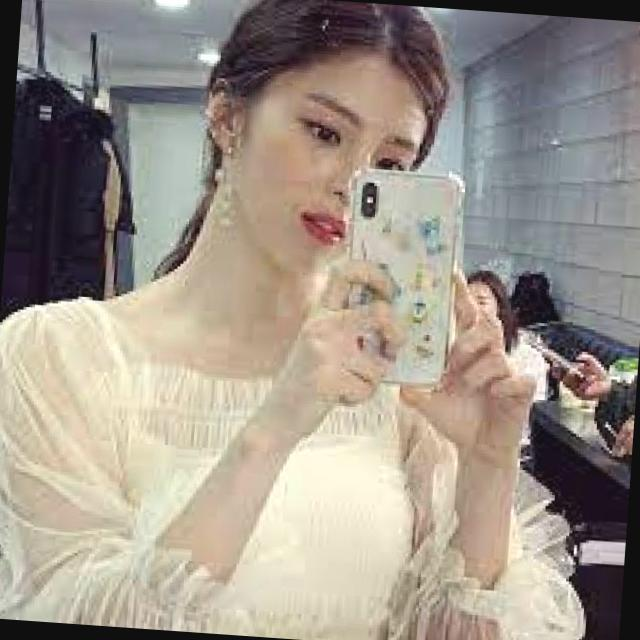lens: (358, 179, 380, 222)
phone: (336, 162, 466, 391)
